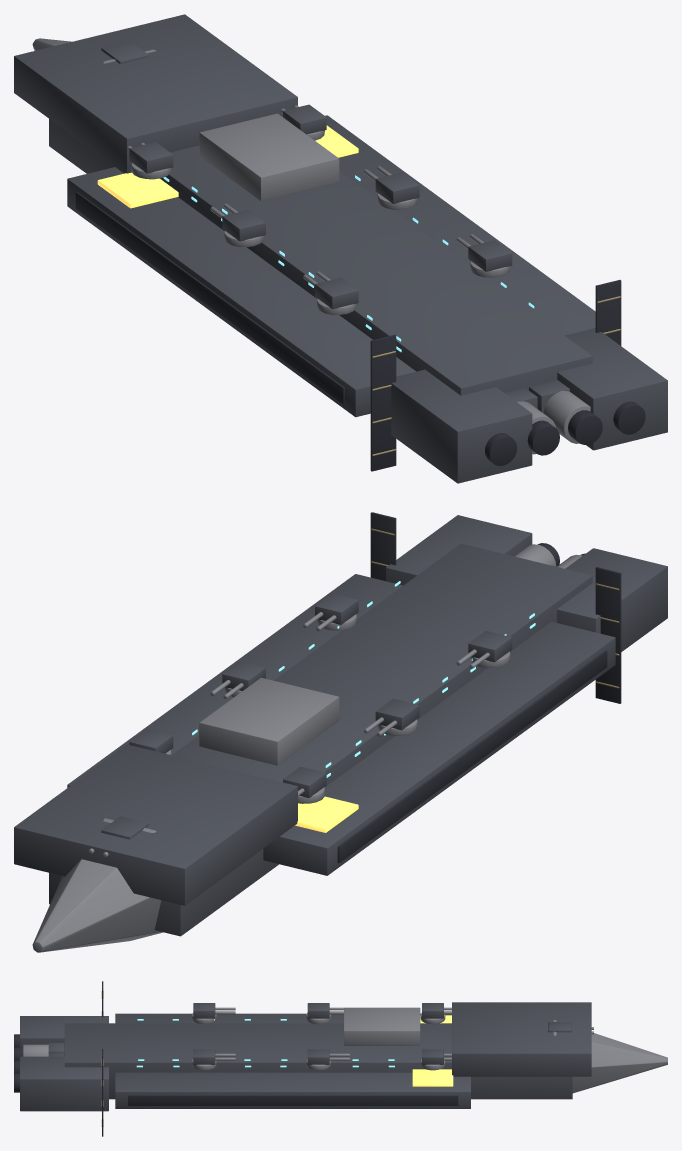
The model's file is battleship.glb.
3 views of the same model, one above another, from view 1: azimuth 30°, elevation 25°; view 2: azimuth 150°, elevation 25°; view 3: azimuth 270°, elevation 25° (orthographic). The views are drawn at different scales.
Visible parts, largest first — view 1: battleship; view 2: battleship; view 3: battleship.
Part boxes in pixels (bbox=[...]): battleship: bbox=[14, 14, 667, 483]; battleship: bbox=[14, 512, 667, 952]; battleship: bbox=[14, 981, 667, 1136].
Size of the model in its own units: 14.8 by 7 by 51.47.
